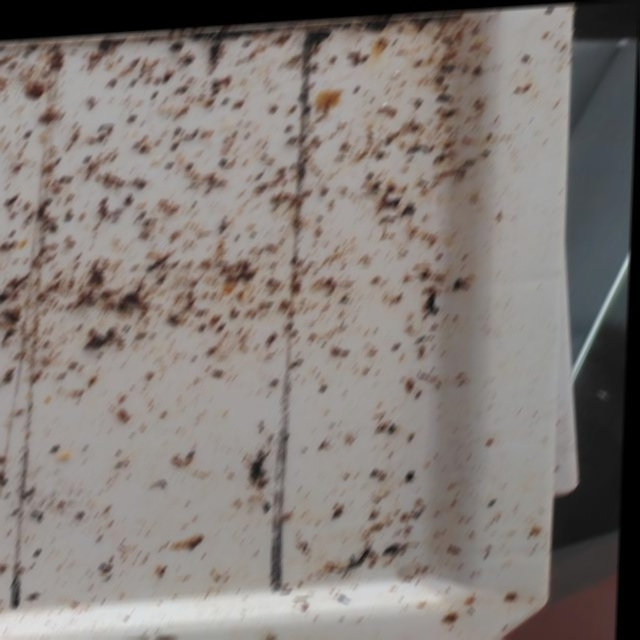varroa: (50, 437, 66, 446), (390, 422, 402, 432), (212, 365, 227, 373), (135, 326, 149, 334), (77, 503, 88, 513), (187, 446, 200, 454), (291, 252, 302, 261), (216, 153, 227, 162), (320, 381, 332, 389), (370, 467, 382, 475), (271, 375, 283, 383), (332, 344, 344, 352), (352, 83, 364, 91), (470, 66, 482, 74), (36, 541, 46, 550), (522, 53, 532, 62), (13, 502, 25, 509), (522, 84, 534, 91), (147, 259, 157, 267), (137, 176, 147, 184), (269, 102, 279, 110), (150, 85, 160, 93), (115, 203, 126, 210), (446, 108, 457, 115), (241, 35, 252, 42), (164, 157, 176, 163), (127, 110, 139, 116), (285, 320, 295, 327), (197, 320, 207, 327), (42, 192, 52, 199), (2, 191, 12, 198), (137, 206, 147, 213), (366, 170, 376, 177), (436, 75, 446, 82), (171, 138, 181, 145), (185, 158, 195, 165), (22, 123, 32, 130), (12, 188, 20, 196), (6, 323, 15, 330), (37, 201, 46, 208), (107, 74, 116, 81), (97, 128, 106, 135), (140, 141, 149, 148), (83, 149, 92, 156), (66, 169, 75, 176), (285, 121, 294, 128), (343, 347, 353, 353), (7, 224, 17, 230), (179, 82, 189, 88), (256, 170, 266, 176), (50, 217, 58, 224), (329, 53, 337, 60), (174, 122, 182, 129), (60, 169, 67, 177), (394, 341, 403, 347), (66, 208, 75, 214), (101, 192, 110, 198), (374, 179, 383, 185), (162, 71, 171, 77), (98, 200, 108, 205), (55, 151, 62, 158), (361, 53, 369, 59), (353, 56, 362, 61), (130, 74, 137, 80), (290, 103, 297, 108), (349, 50, 357, 54)
